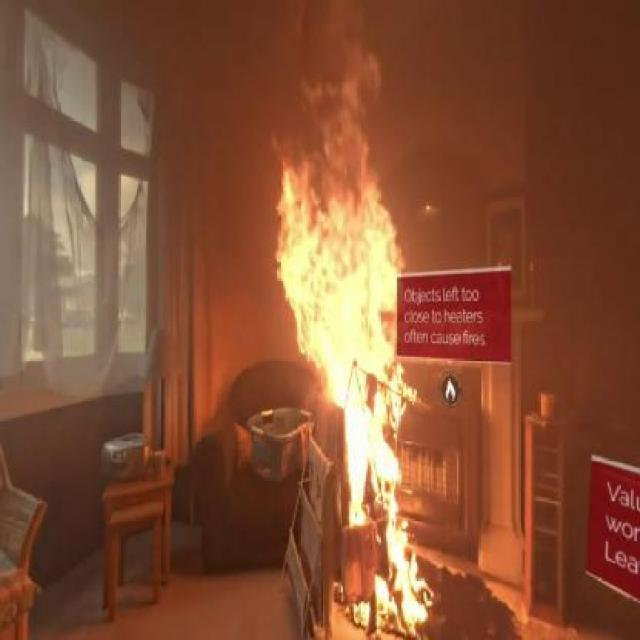fire: (304, 189, 407, 514)
smoke: (388, 1, 548, 224), (134, 0, 374, 114)
